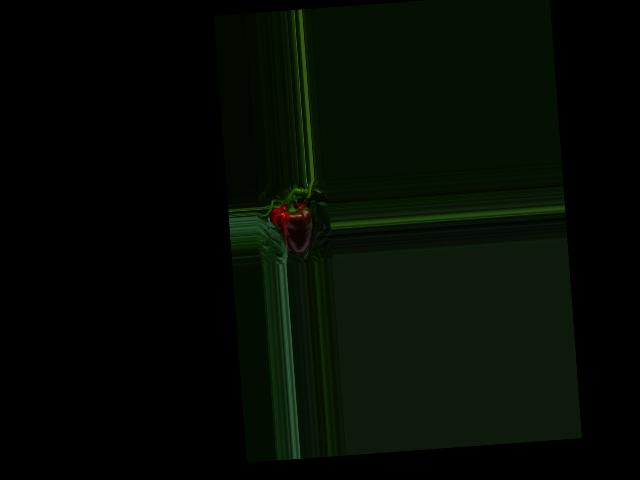bell_pepper: (266, 194, 322, 259)
